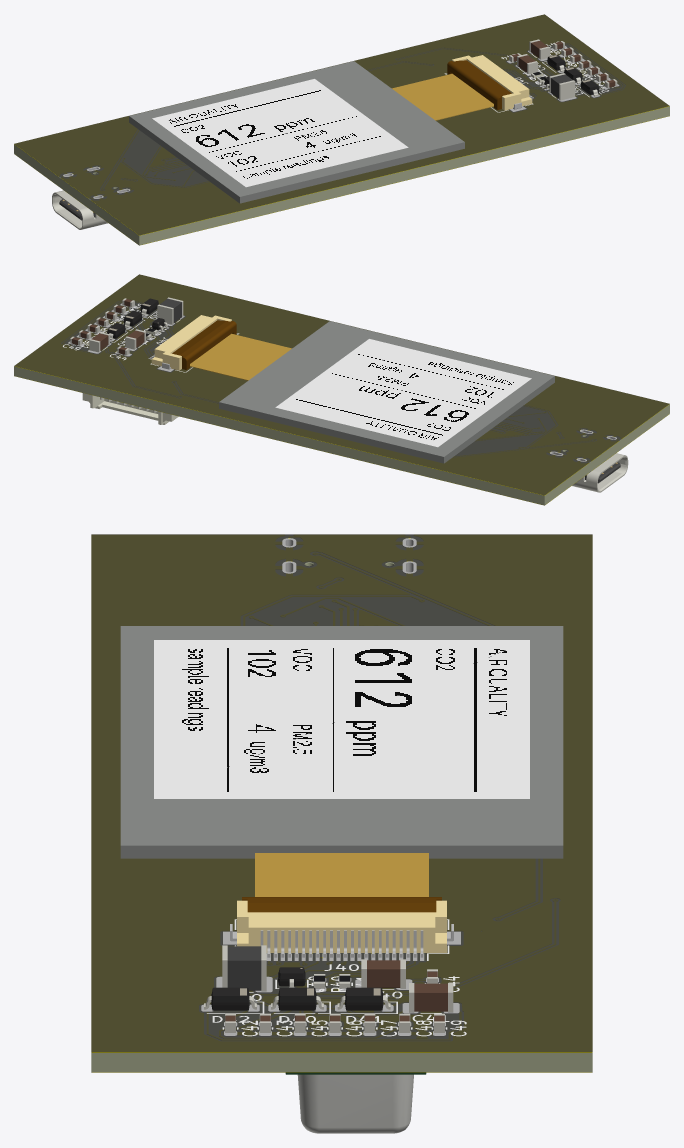
The model's file is air-quality.glb.
3 views of the same model, one above another, from view 1: azimuth 30°, elevation 25°; view 2: azimuth 150°, elevation 25°; view 3: azimuth 270°, elevation 25° (orthographic). The views are drawn at different scales.
Visible parts, largest first — view 1: Board, E-paper display, USB-C power; view 2: Board, E-paper display, USB-C power, Dust sensor; view 3: Board, E-paper display, CO2 sensor.
Boxes of the visible parts, x1,y1,x2,y2 form: Board: (14,14,669,245); E-paper display: (129,39,617,203); USB-C power: (52,190,108,229); Board: (14,274,669,505); E-paper display: (70,297,554,463); USB-C power: (572,453,628,492); Dust sensor: (82,393,178,424); Board: (91,534,592,1072); E-paper display: (120,626,563,1032); CO2 sensor: (285,1072,426,1133).
Size of the model in its own units: 0.0892 by 0.0108 by 0.036.
Materials: 35 (1 with a texture image).
